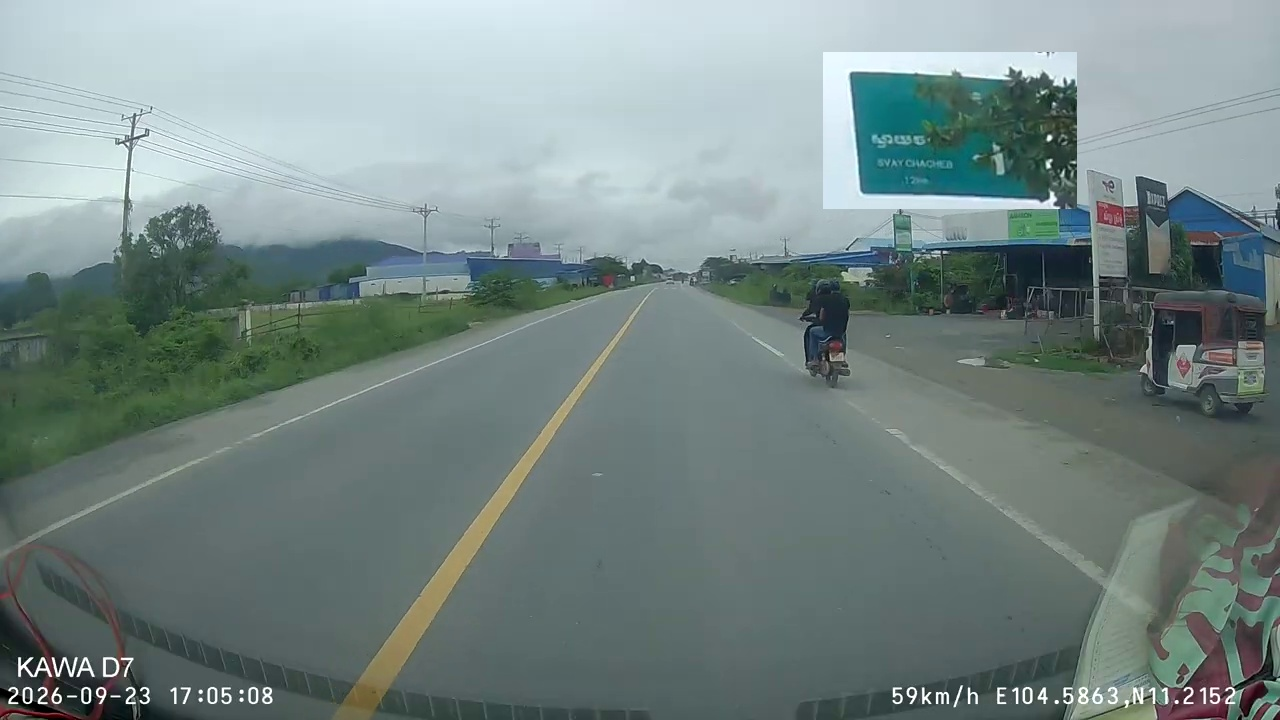direction_sign: (823, 52, 1077, 209)
